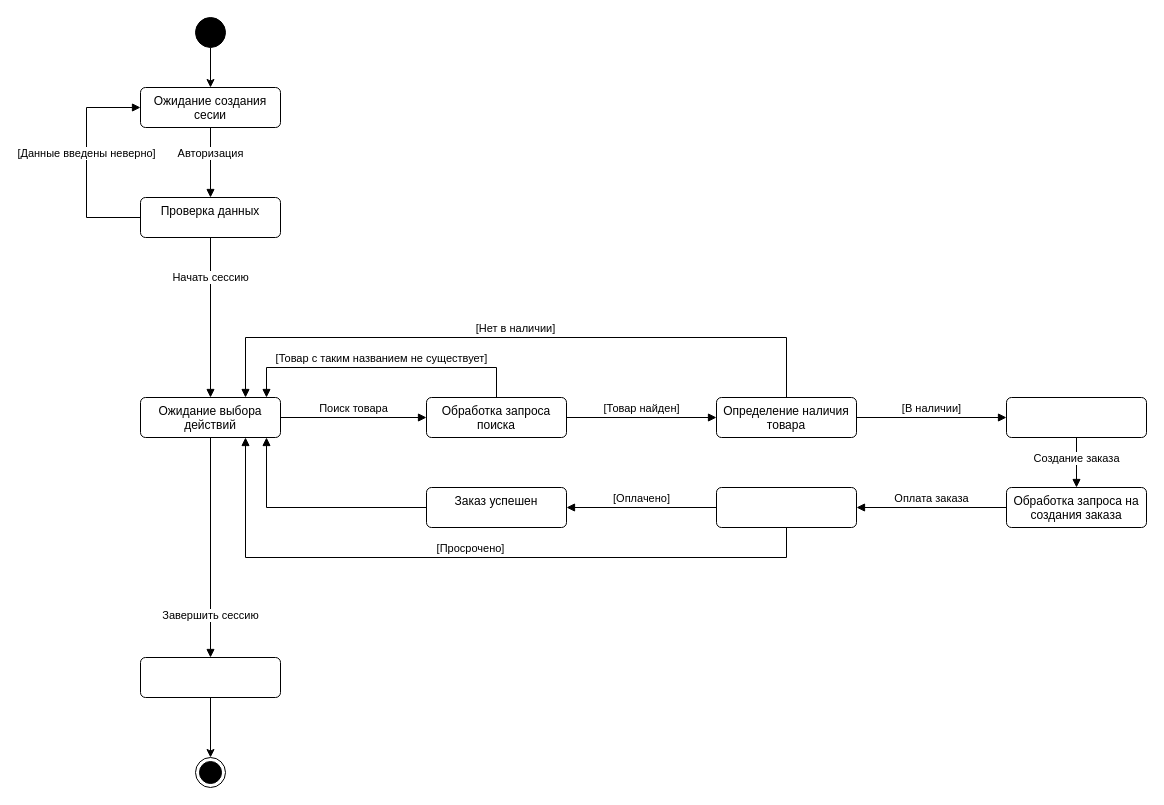
Image size: 1164x805. Some labels were removed from this diagram. Here are the shapes that lost their labels. From the top down, the centre of each, then its label:
At (x=1076, y=417): "Добавление товара, формирование корзины".
At (x=786, y=507): "Обработка запроса на оплату заказа".
At (x=210, y=677): "Завершение сессии".
